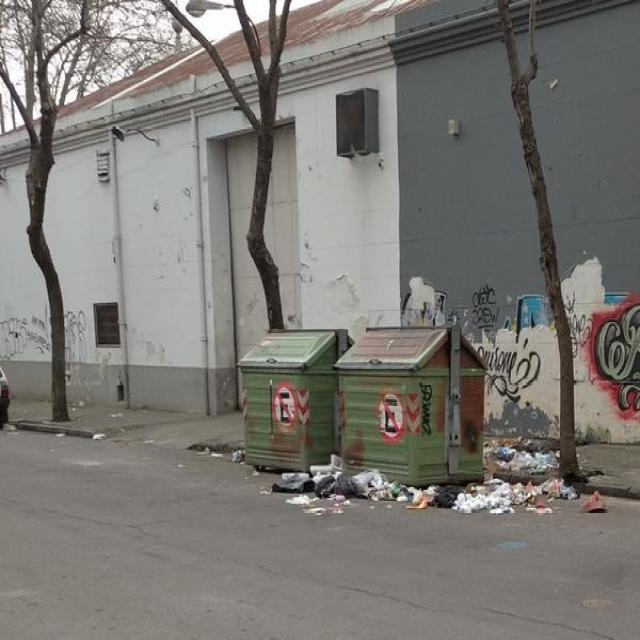garbage: (246, 451, 632, 528), (481, 432, 572, 485)
